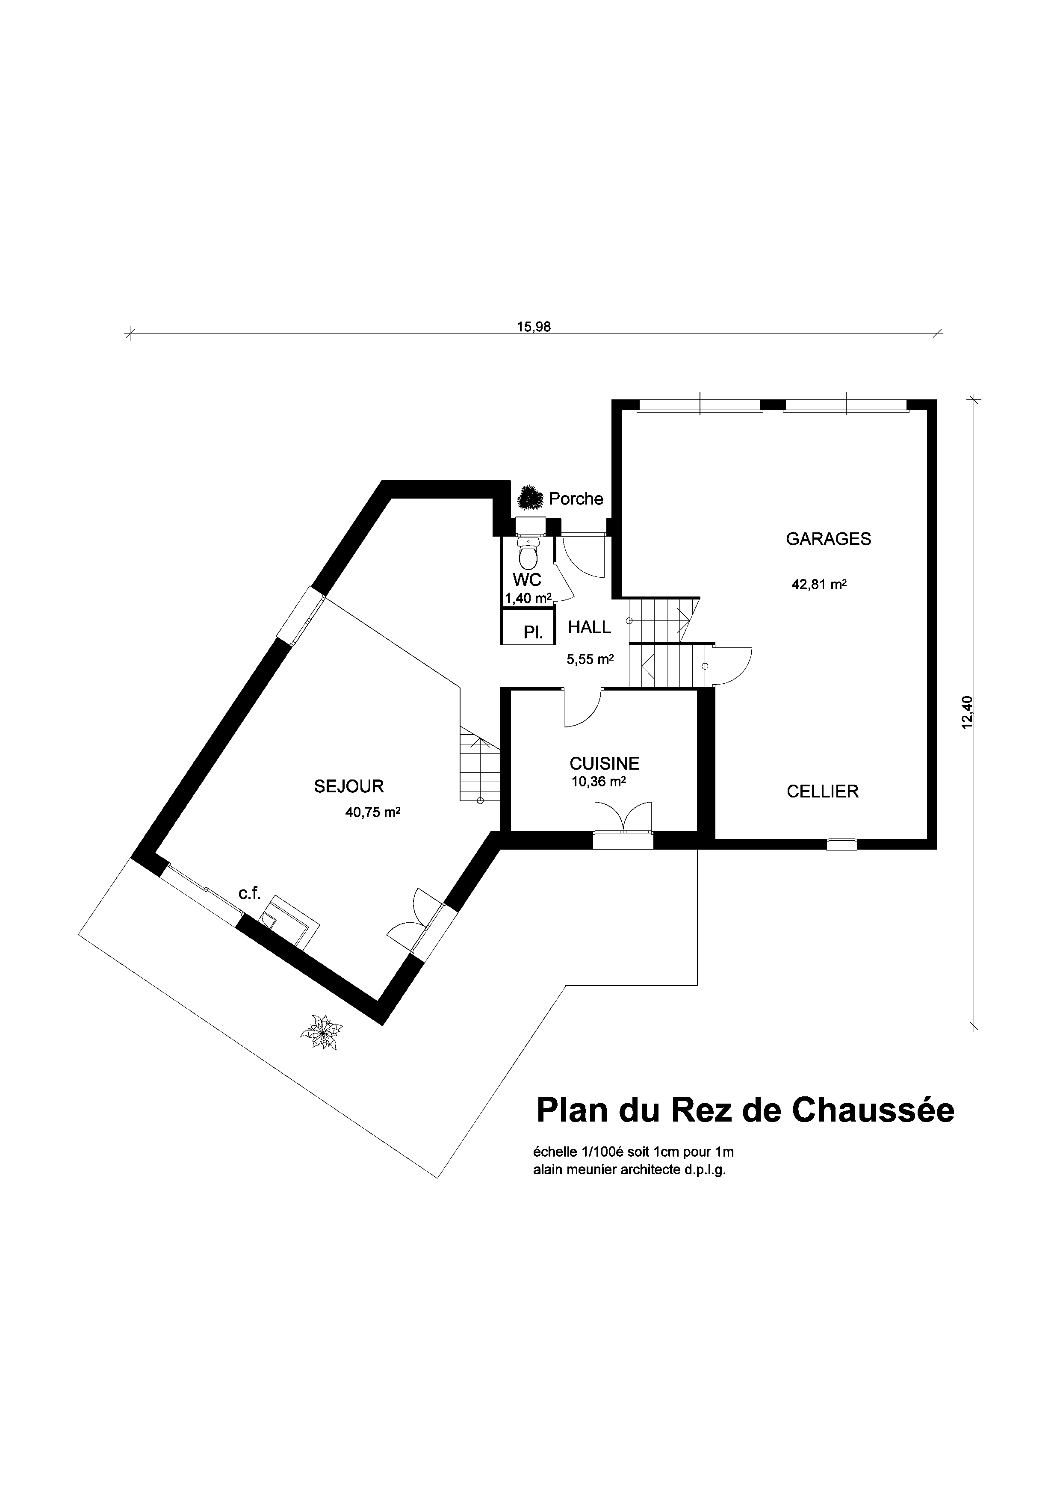door: (560, 531, 607, 579), (711, 644, 753, 688), (561, 687, 605, 728), (553, 562, 576, 606)
sliding door: (159, 861, 247, 928)
toilet: (516, 537, 541, 571)
window: (385, 886, 461, 964), (275, 584, 328, 649), (592, 802, 654, 850), (515, 516, 546, 538), (826, 837, 858, 851)
